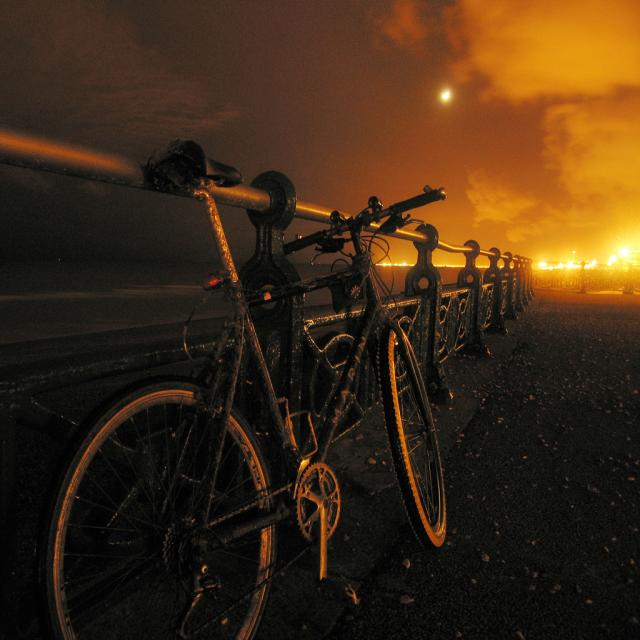Bicycle: (85, 124, 455, 623)
